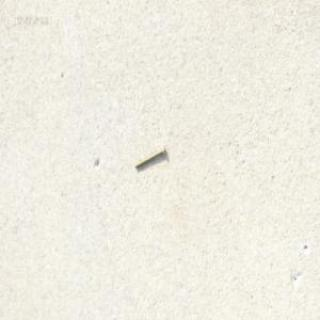Bolttrack_idkeyframe: (134, 144, 164, 168)
